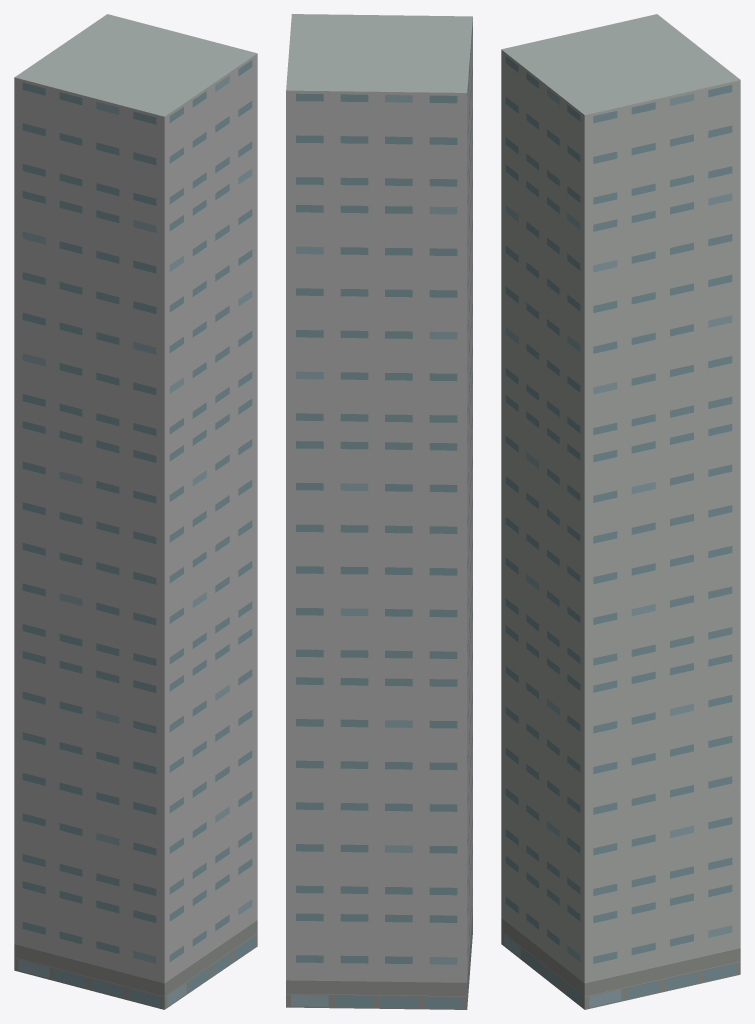
Rendered from residential-995d5ddd-41d8-44aa-89d0-78b5b8207de6.glb.
3 renders of one model, left to right at view 1: azimuth 30°, elevation 25°; view 2: azimuth 150°, elevation 25°; view 3: azimuth 270°, elevation 25°, orthographic. The views are drawn at different scales.
Parts seen in each view (by area): view 1: residential-995d5ddd-41d8-44aa-89d0-78b5b8207de6.tmp; view 2: residential-995d5ddd-41d8-44aa-89d0-78b5b8207de6.tmp; view 3: residential-995d5ddd-41d8-44aa-89d0-78b5b8207de6.tmp.
Boxes of the visible parts, x1,y1,x2,y2 form: residential-995d5ddd-41d8-44aa-89d0-78b5b8207de6.tmp: (14,14,257,1009); residential-995d5ddd-41d8-44aa-89d0-78b5b8207de6.tmp: (286,14,472,1009); residential-995d5ddd-41d8-44aa-89d0-78b5b8207de6.tmp: (501,14,740,1009).
Bounding box in the file's own units: 56.77 × 234 × 56.79.
